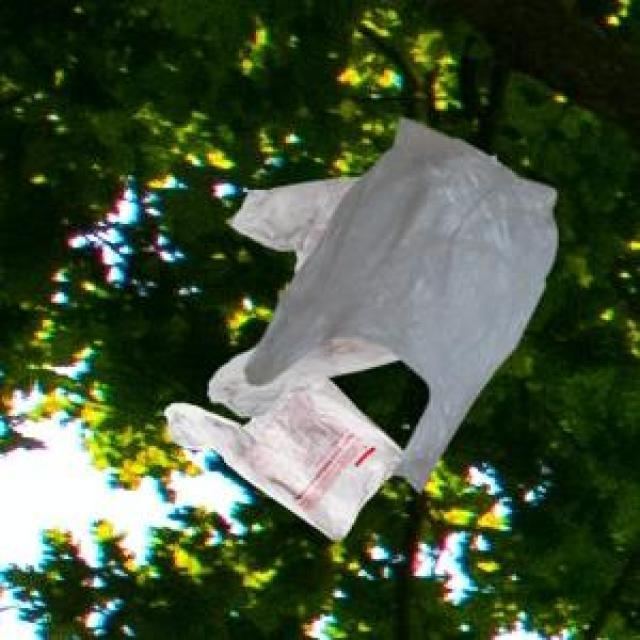waste: (165, 119, 558, 539)
